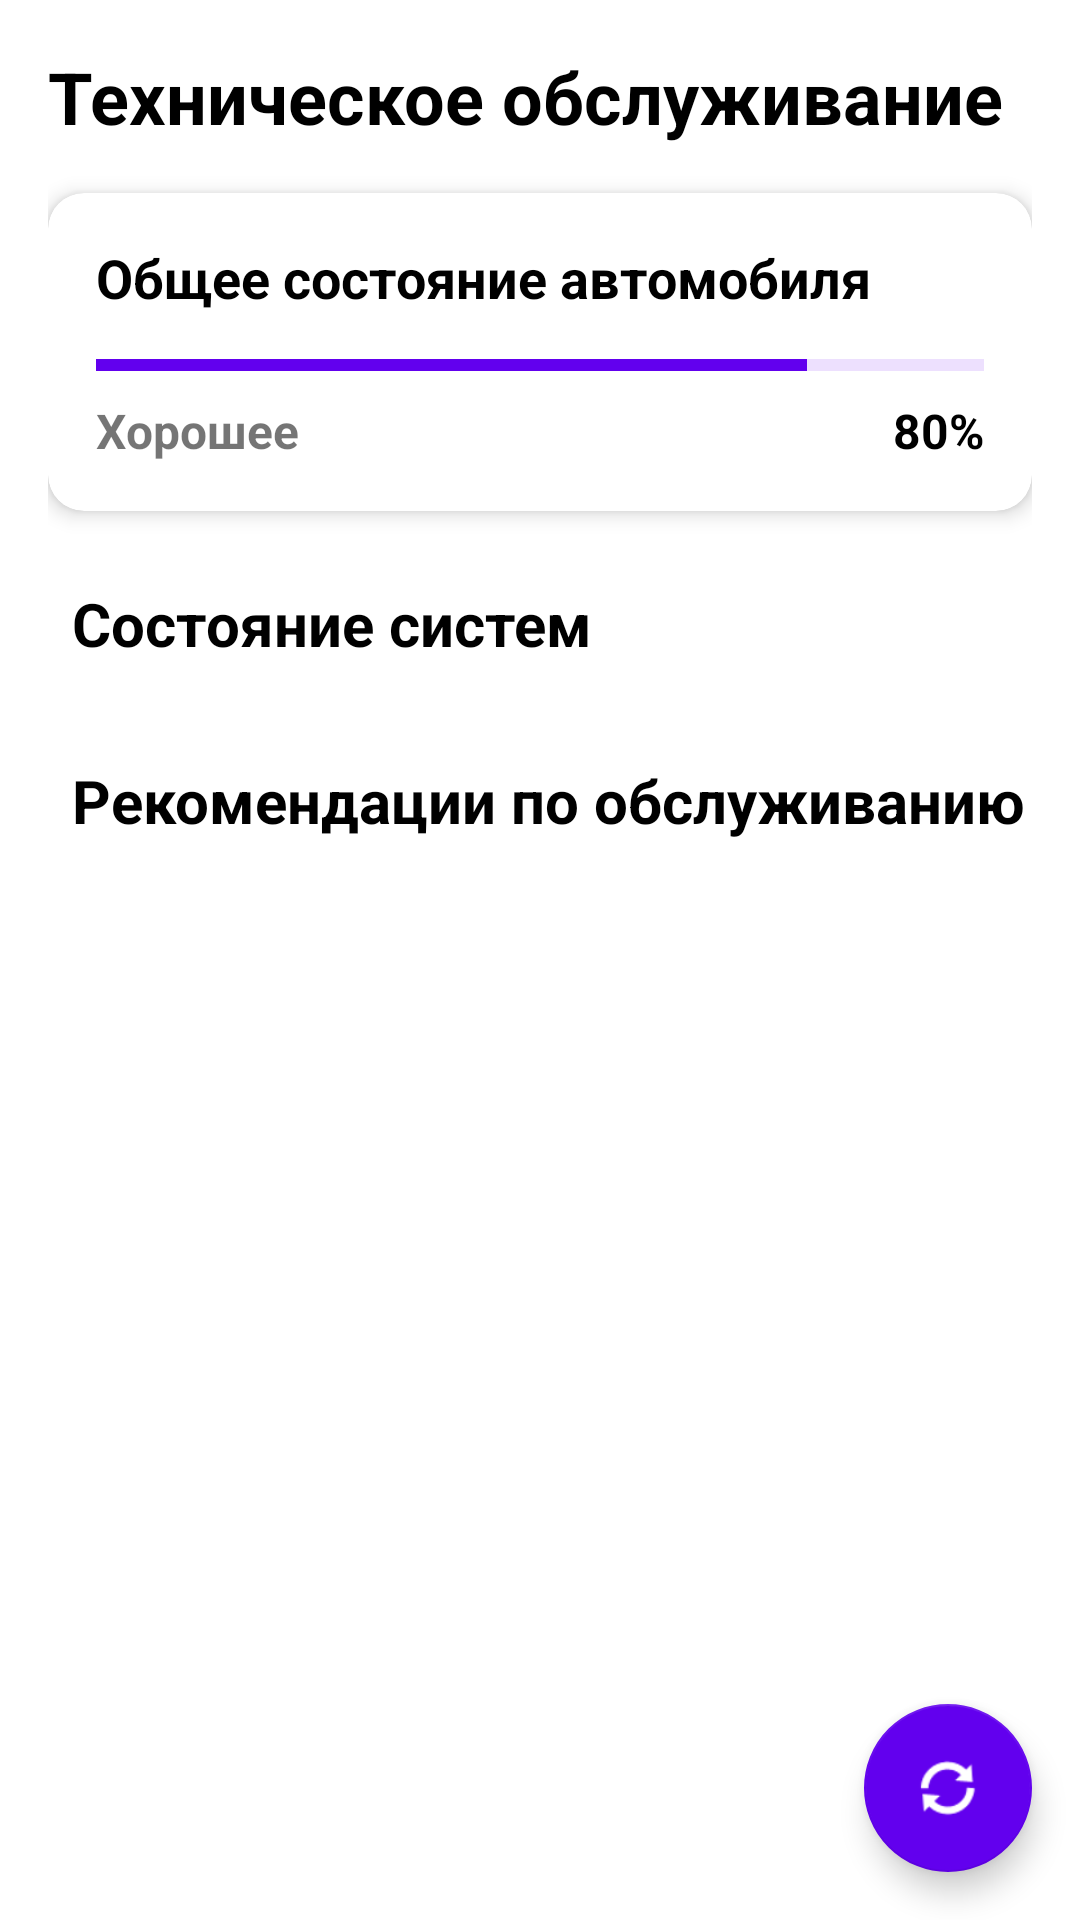

Named icons in this screenshot (1080*1920) and their centers, (x=x, y=y):
Обновить анализ: (x=948, y=1788)
